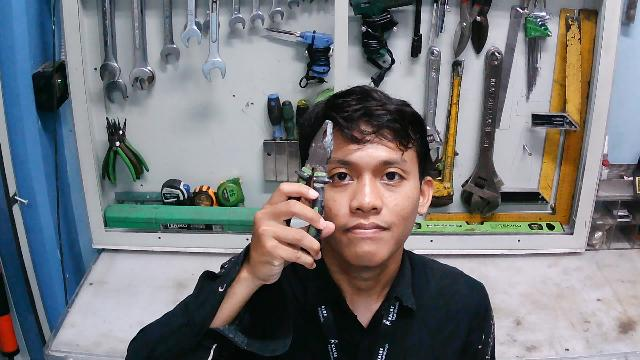tang_kombinasi: (277, 119, 334, 251)
